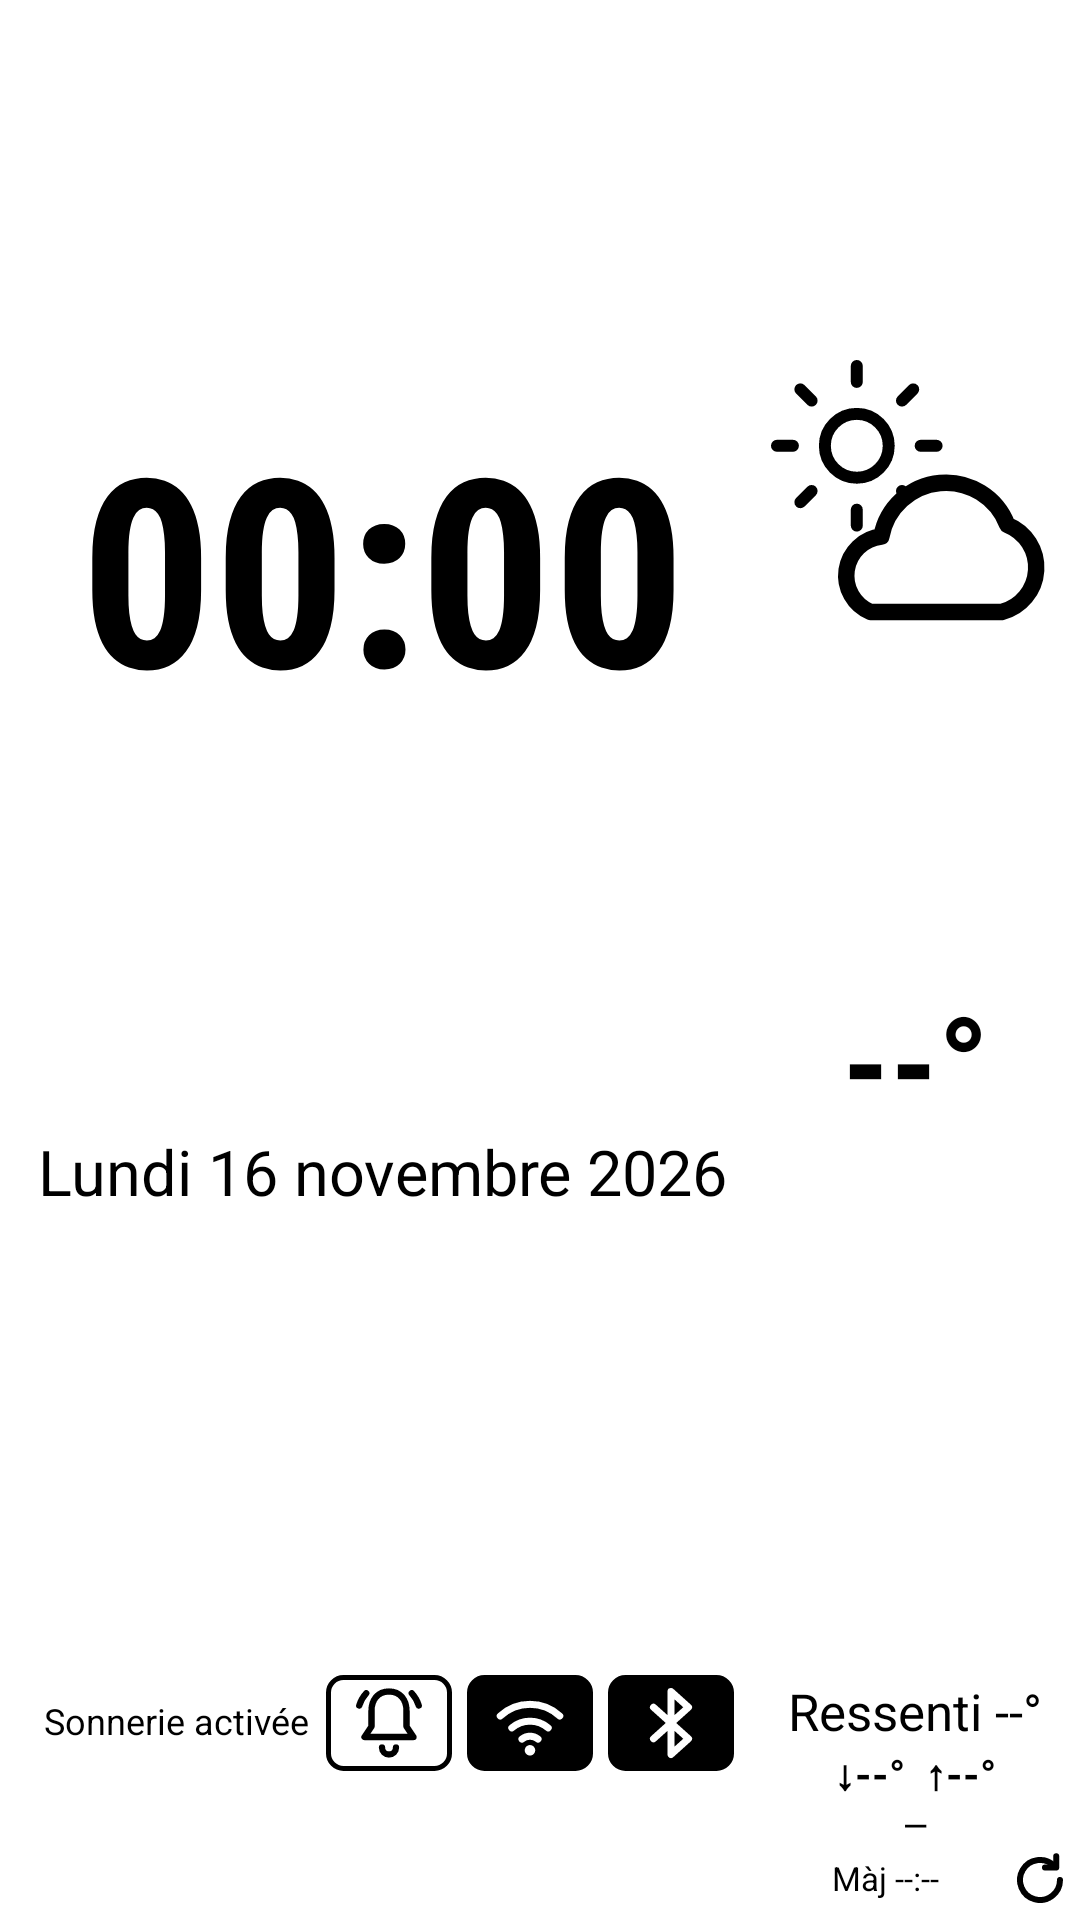

Named icons in this screenshot (1080px×1920px) and their centers, point (x, y):
partly day: point (908, 490)
refresh: point (1040, 1878)
ringer: point (389, 1723)
wifi on: point (530, 1723)
